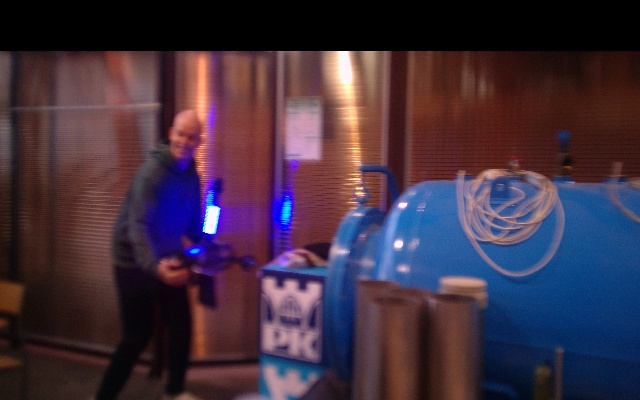blue: (202, 204, 221, 238)
